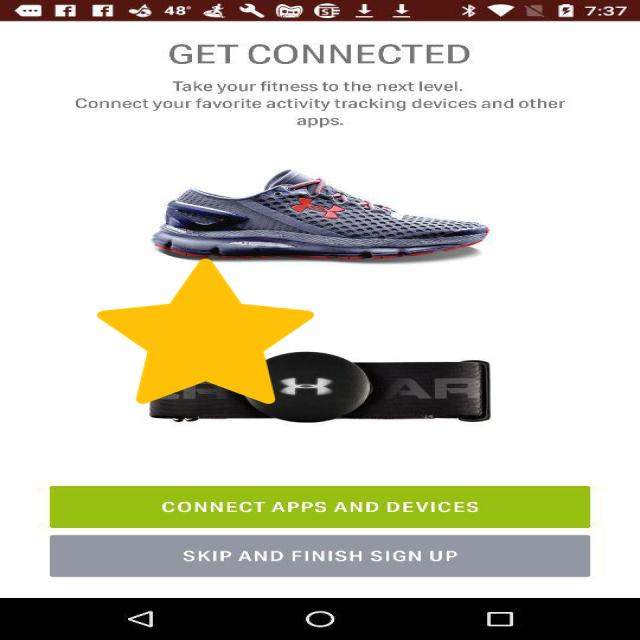forced continuity: (97, 259, 314, 404)
